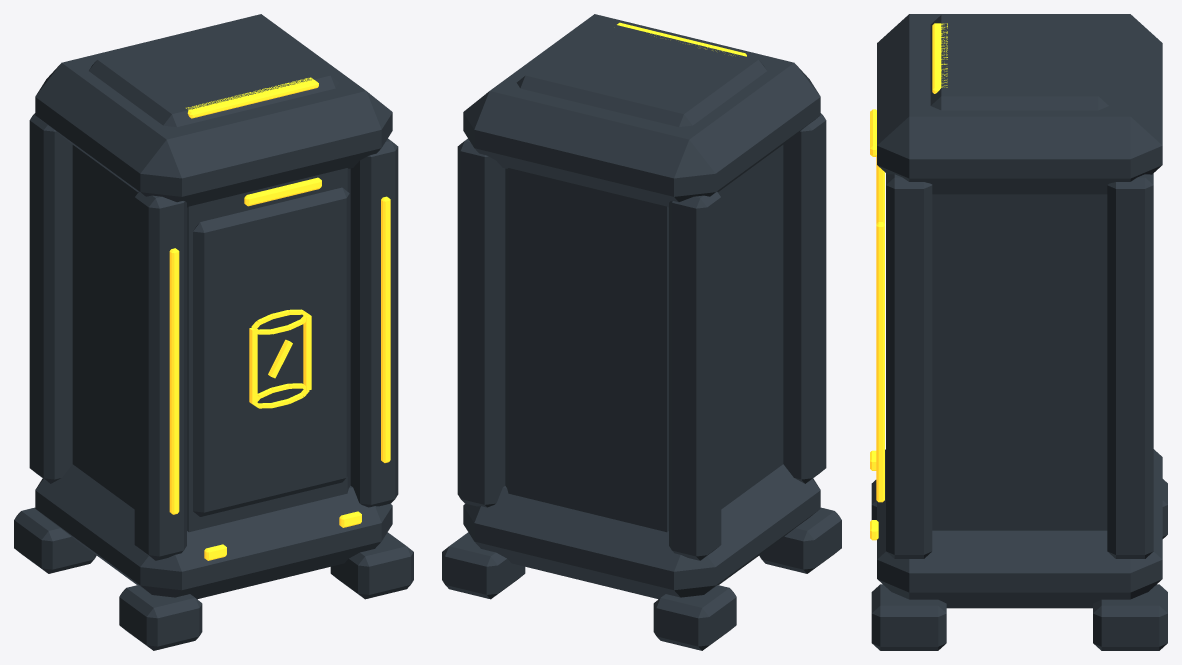
The model's file is MetalRecycleStation_Final.fbx.
The picture shows the model from 3 angles, left to right: view 1: azimuth 30°, elevation 25°; view 2: azimuth 150°, elevation 25°; view 3: azimuth 270°, elevation 25°; orthographic projection. The views are drawn at different scales.
Parts seen in each view (by area): view 1: MetalRecycleStation_Final; view 2: MetalRecycleStation_Final; view 3: MetalRecycleStation_Final.
Part boxes in pixels (box(x1,y1,x2,y2)): MetalRecycleStation_Final: box(14, 14, 413, 650); MetalRecycleStation_Final: box(442, 14, 841, 650); MetalRecycleStation_Final: box(870, 14, 1167, 650).
Size of the model in its own units: 0.455 by 0.82 by 0.4175.
